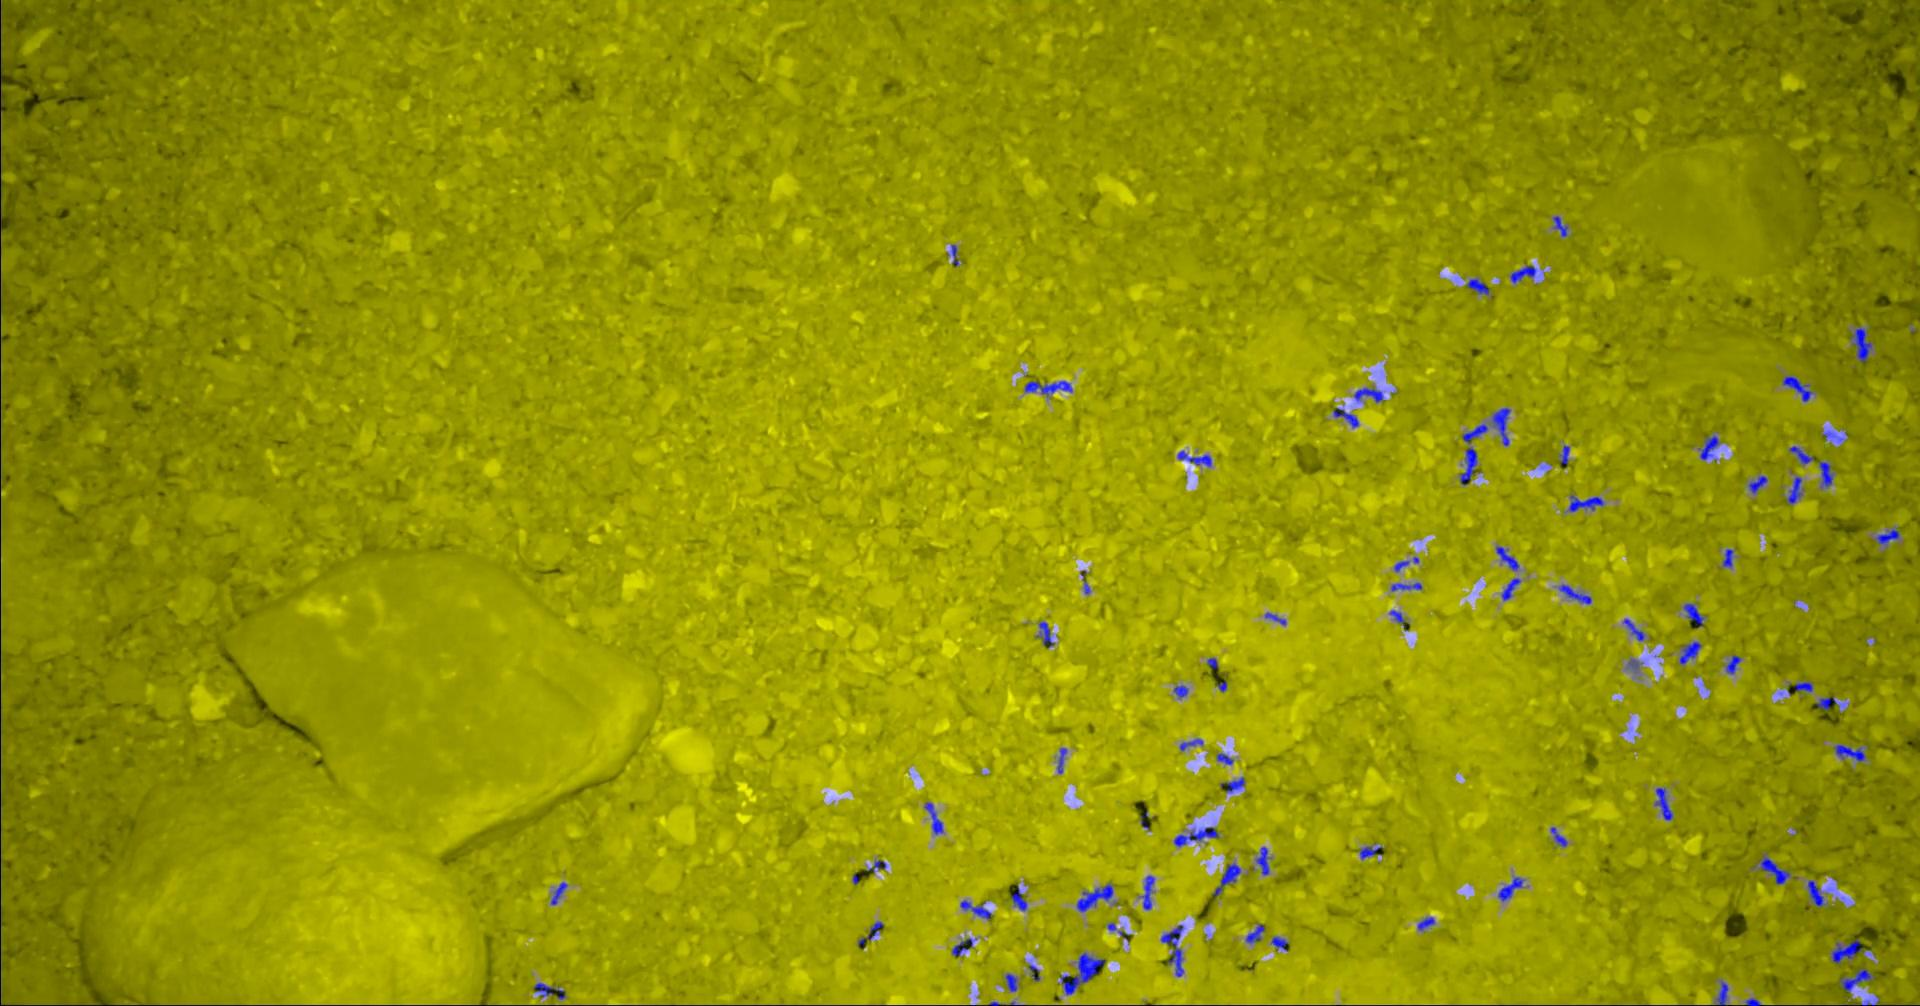ant: (1059, 951, 1105, 995), (1460, 423, 1487, 484), (1161, 923, 1183, 976), (1076, 883, 1112, 911), (1211, 862, 1239, 895), (1173, 826, 1218, 846), (1760, 856, 1790, 884), (1782, 375, 1812, 401), (1831, 937, 1862, 963), (1839, 968, 1870, 992), (1491, 406, 1510, 445), (1023, 380, 1070, 395), (1851, 326, 1870, 362), (1558, 584, 1591, 605), (923, 801, 942, 835), (1497, 876, 1523, 901), (857, 921, 883, 945), (1177, 450, 1211, 466), (1568, 494, 1603, 511), (1655, 788, 1672, 819), (1495, 546, 1517, 570), (960, 901, 990, 918), (1834, 744, 1865, 761), (533, 982, 565, 998), (1679, 641, 1702, 664), (1683, 603, 1704, 627), (1788, 445, 1815, 464), (1333, 406, 1357, 427), (1698, 434, 1718, 459), (951, 937, 977, 956), (1623, 619, 1644, 640), (1510, 265, 1535, 283), (1352, 387, 1384, 401), (1142, 875, 1154, 909), (1036, 621, 1053, 647), (1807, 880, 1823, 906), (1501, 578, 1520, 600), (1785, 476, 1801, 503), (550, 882, 568, 904), (1255, 846, 1269, 874), (1818, 460, 1832, 486), (1220, 777, 1244, 793), (1244, 923, 1263, 942), (1465, 278, 1488, 293), (1876, 528, 1898, 544), (1011, 887, 1026, 909), (1747, 475, 1768, 492), (1552, 215, 1567, 236), (1724, 654, 1741, 673), (1550, 827, 1567, 846), (1815, 696, 1836, 710), (1389, 610, 1406, 627), (1359, 846, 1382, 859), (1178, 738, 1203, 749), (1716, 981, 1727, 1005), (1390, 582, 1421, 591), (1263, 612, 1285, 624), (1057, 747, 1065, 774), (1271, 936, 1288, 950), (867, 859, 885, 871), (1722, 547, 1733, 567), (1417, 916, 1434, 929), (1794, 681, 1812, 692), (1004, 973, 1016, 991), (1559, 445, 1570, 464), (1173, 685, 1187, 697), (1217, 753, 1233, 763), (1029, 964, 1039, 981)
